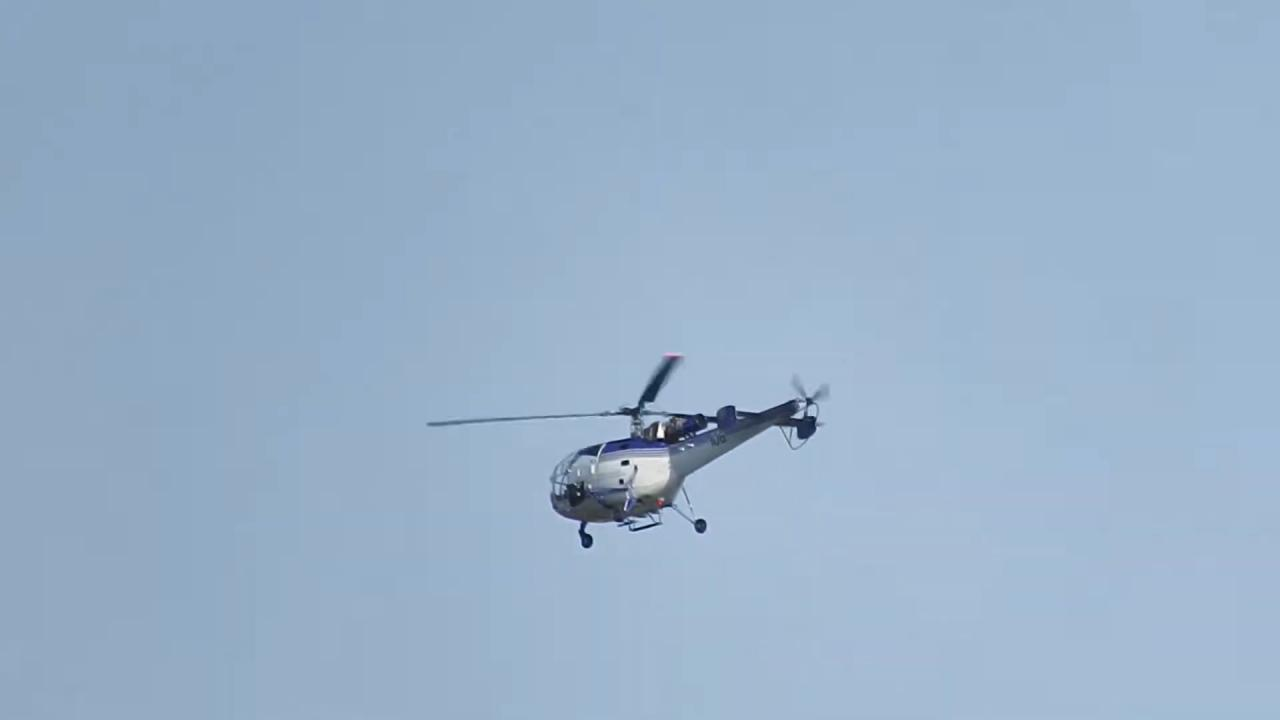Helicopter: (418, 341, 839, 559)
